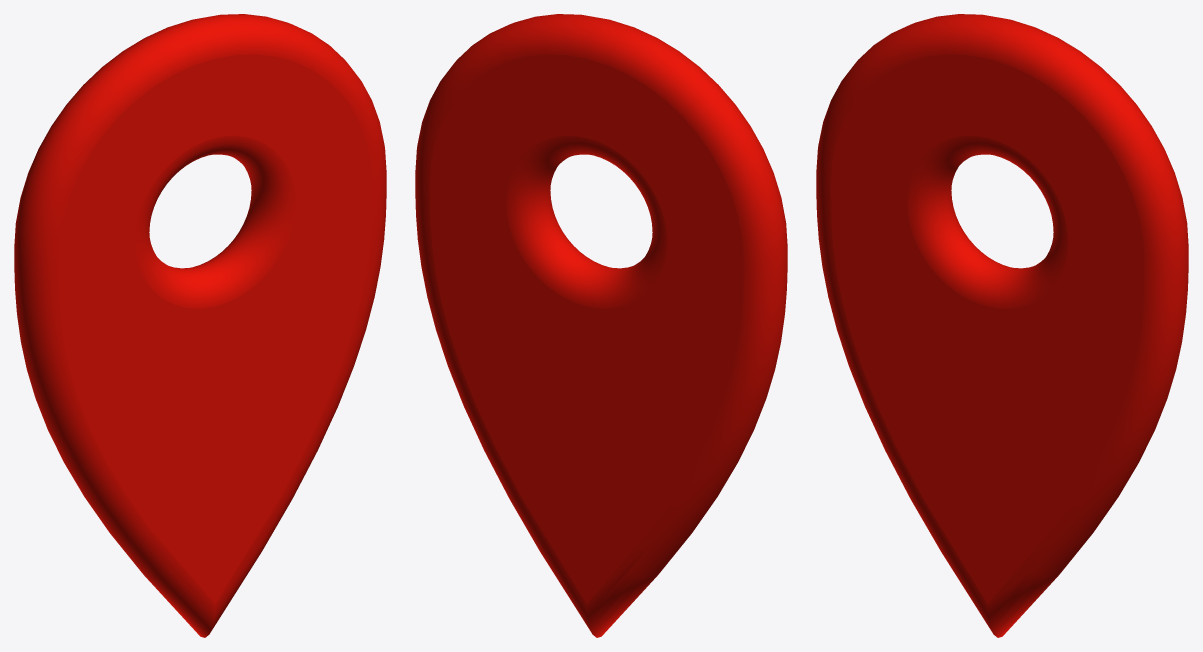
Rendered from pin.glb.
3 views of the same model, side by side, from view 1: azimuth 30°, elevation 25°; view 2: azimuth 150°, elevation 25°; view 3: azimuth 330°, elevation 25° (orthographic).
Visible parts, largest first — view 1: Curve.001; view 2: Curve.001; view 3: Curve.001.
Boxes of the visible parts, <box> form: Curve.001: <box>14,14,386,637</box>; Curve.001: <box>415,14,787,637</box>; Curve.001: <box>816,14,1188,637</box>.
Size of the model in its own units: 0.4258 by 0.6867 by 0.06.
